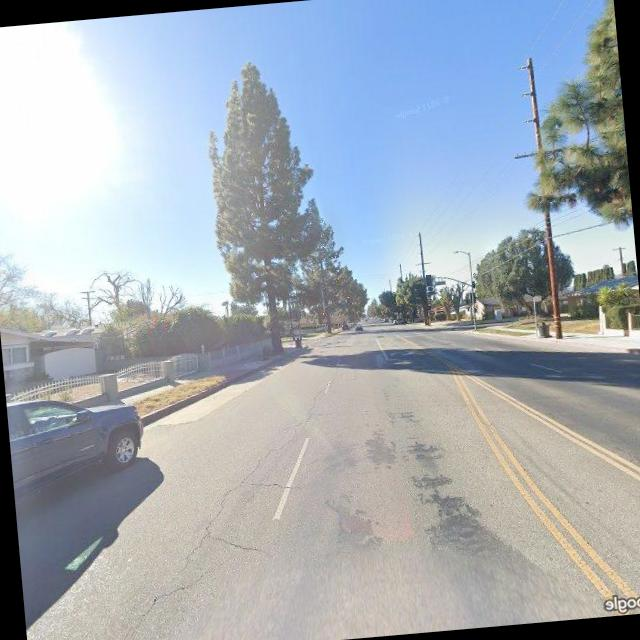pothole: (103, 388, 346, 638)
